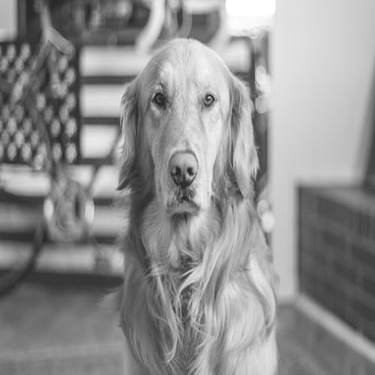dog: (113, 34, 284, 373)
